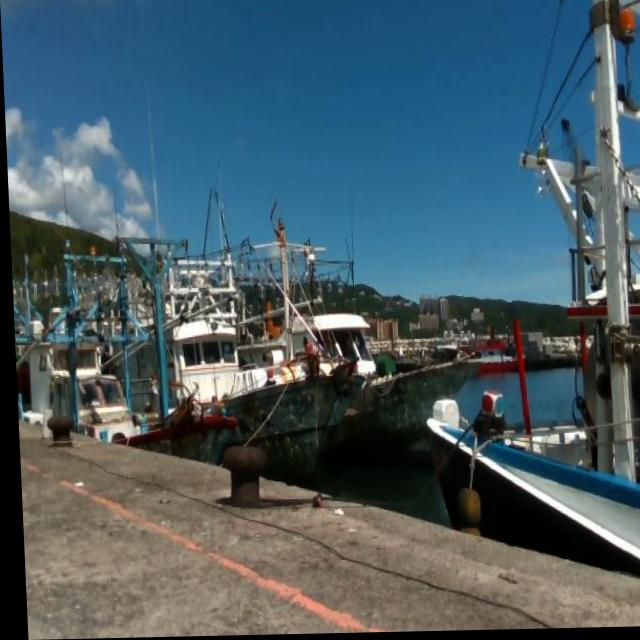pollute: (329, 508, 342, 521), (68, 479, 86, 486)
